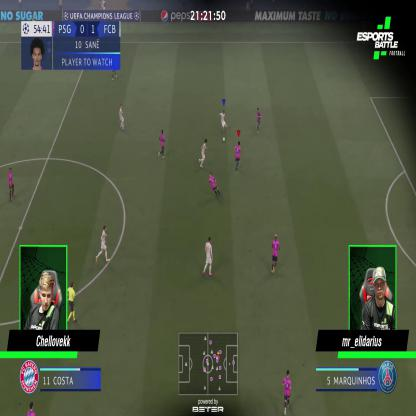ball: (222, 137, 225, 141)
